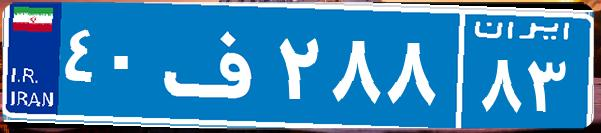0: (110, 28, 158, 105)
2: (273, 28, 330, 110)
3: (525, 38, 570, 115)
4: (57, 26, 110, 107)
8: (385, 28, 445, 110), (330, 28, 385, 110), (475, 38, 525, 113)
ف: (158, 15, 273, 115)
